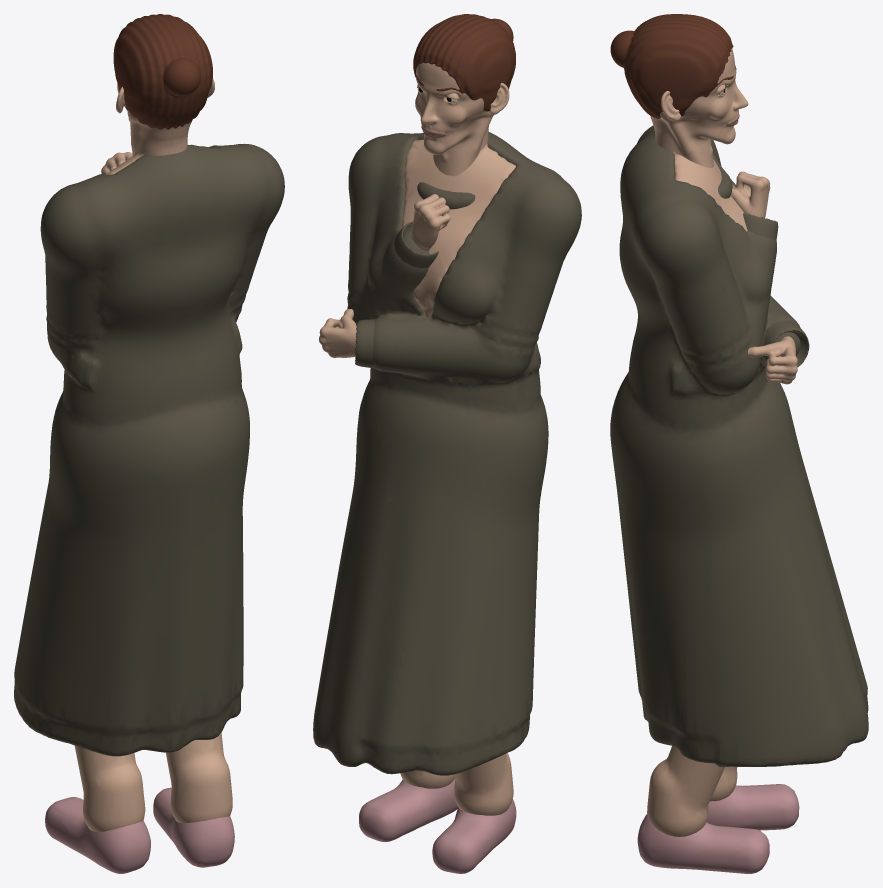
File: lorraine_coat.glb
3 views of the same model, side by side, from view 1: azimuth 30°, elevation 25°; view 2: azimuth 150°, elevation 25°; view 3: azimuth 270°, elevation 25° (orthographic). The views are drawn at different scales.
Visible parts, largest first — view 1: lorraine_coat_body, lorraine_coat_head; view 2: lorraine_coat_body, lorraine_coat_head, lorraine_coat_hands; view 3: lorraine_coat_body, lorraine_coat_head, lorraine_coat_hands.
Part boxes in pixels (<box>): lorraine_coat_body: <box>14,143,284,873</box>; lorraine_coat_head: <box>113,14,214,155</box>; lorraine_coat_body: <box>313,131,581,873</box>; lorraine_coat_head: <box>413,14,515,176</box>; lorraine_coat_hands: <box>319,194,450,367</box>; lorraine_coat_body: <box>610,125,868,873</box>; lorraine_coat_head: <box>610,14,748,167</box>; lorraine_coat_hands: <box>731,171,809,384</box>.
Size of the model in its own units: 0.4533 by 1.57 by 0.4438.
